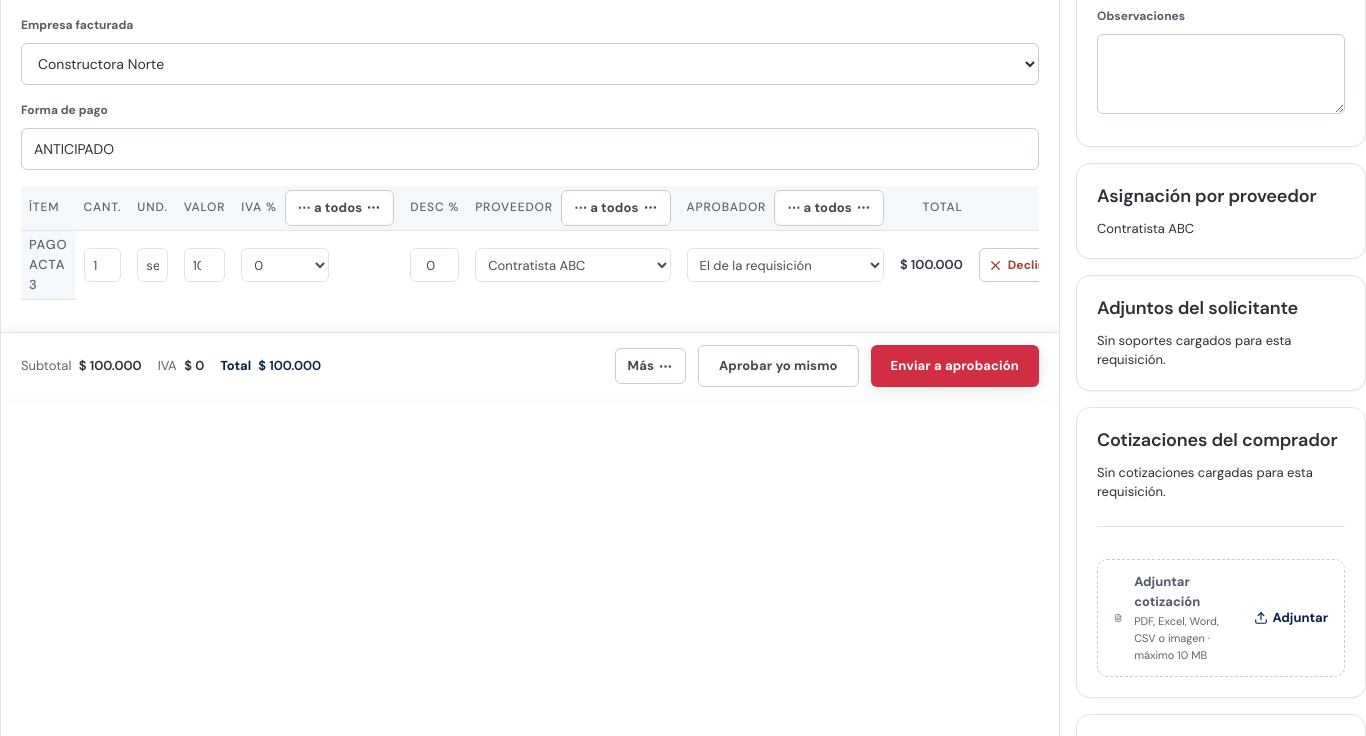
it: Aprobar yo mismo (RF-308) › conserva el aprobador asignado, avisa que se aprueba por encima y DESPUÉS manda send_and_approve
The width and height of the screenshot is (1366, 736).
(page scrolled)
What coordinates should you click on to do the following:
click the button "Aprobar yo mismo"
I would click on:
 (778, 366)
Its box is [698, 345, 859, 387].
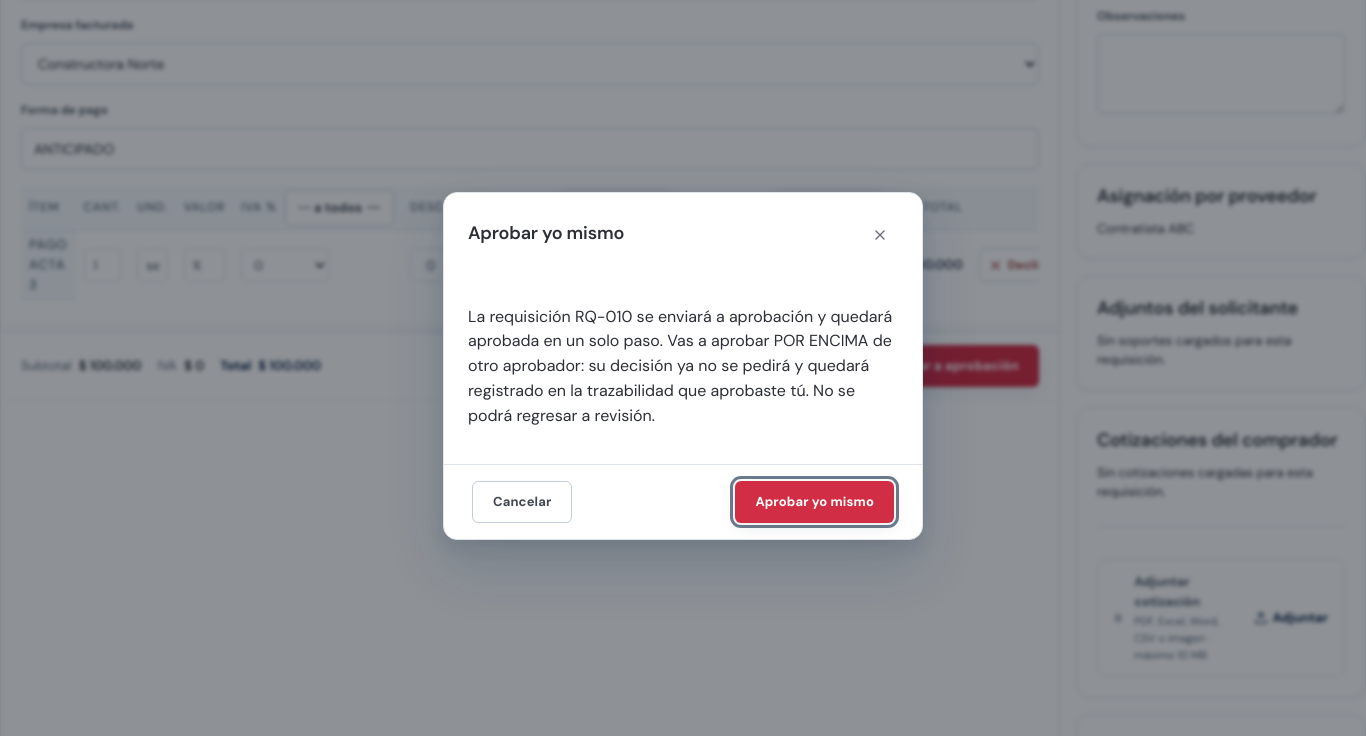
Expected: the dialog "Aprobar yo mismo" shows "POR ENCIMA", [468, 306, 892, 426]
What coordinates should you click on to do the following:
click the button with test id "confirm-dialog-confirm"
I would click on:
 (815, 502)
Its box is [735, 482, 894, 524].
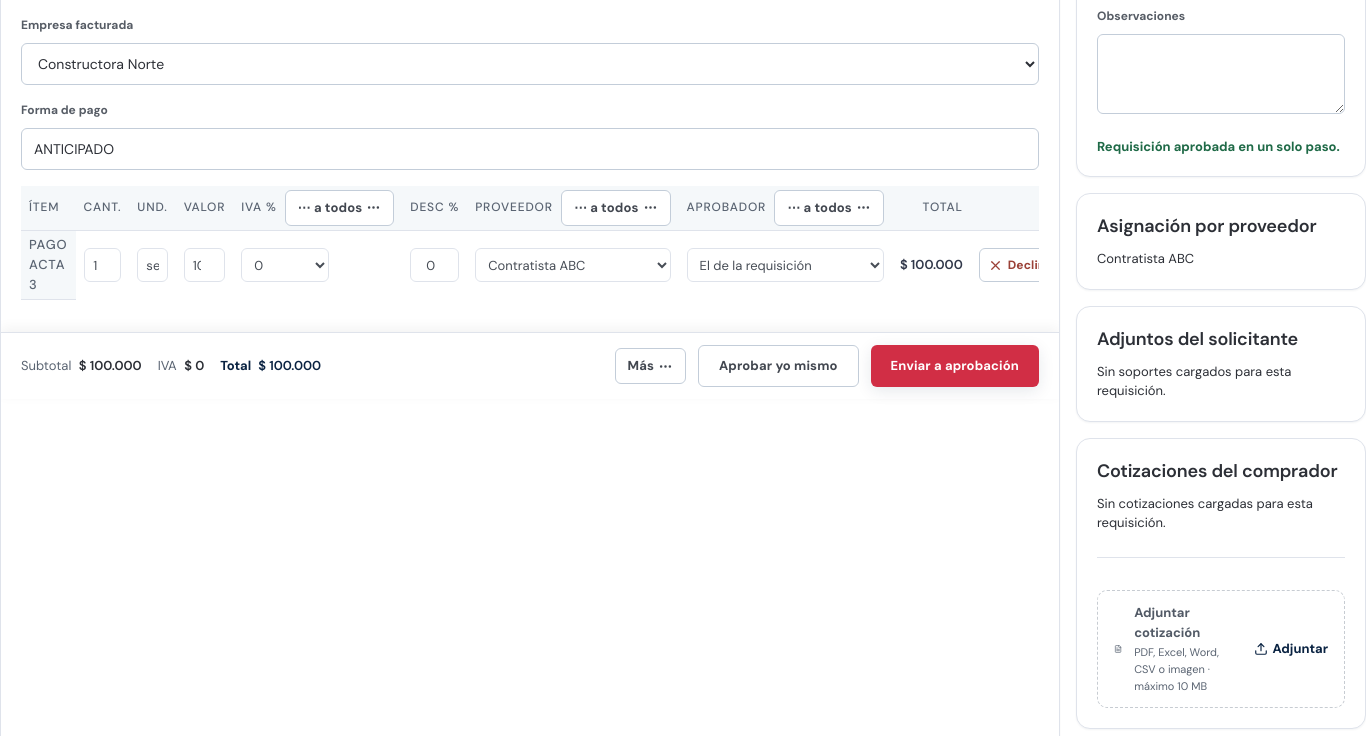
Expected: the text "Requisición aprobada en un solo paso." is shown, [1097, 138, 1345, 156]
